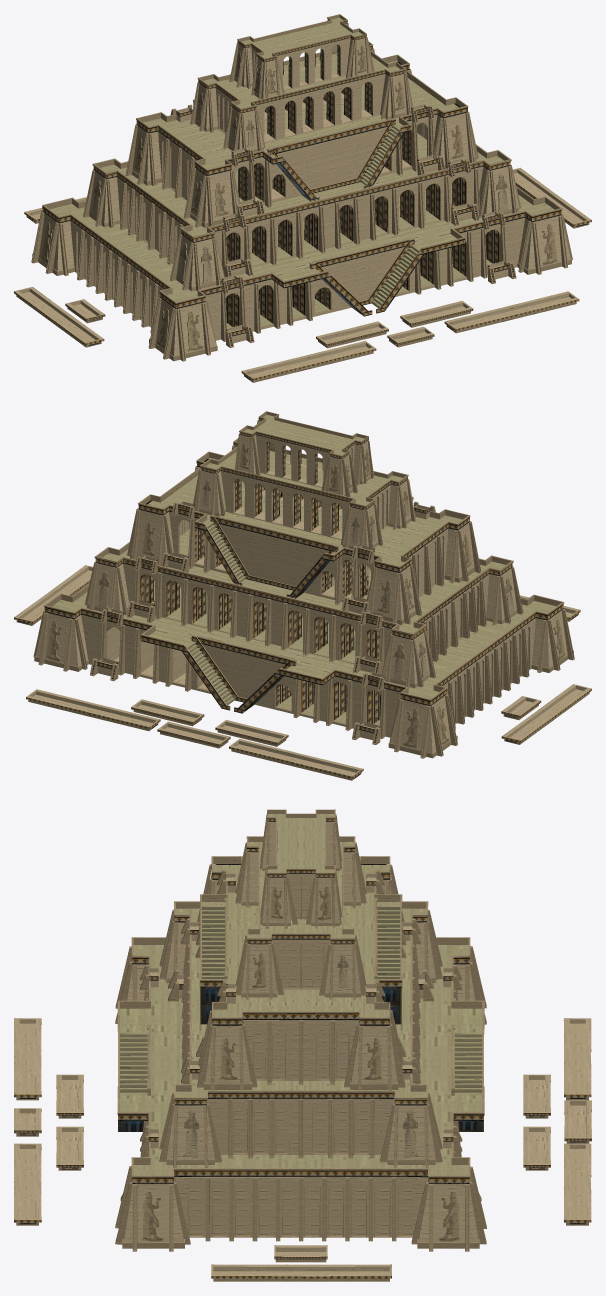
File: sacred-ziggurat-3.glb
3 views of the same model, one above another, from view 1: azimuth 30°, elevation 25°; view 2: azimuth 150°, elevation 25°; view 3: azimuth 270°, elevation 25° (orthographic). The views are drawn at different scales.
Visible parts, largest first — view 1: Sacred-sacred-ziggurat-3-surface-0; view 2: Sacred-sacred-ziggurat-3-surface-0; view 3: Sacred-sacred-ziggurat-3-surface-0.
Part boxes in pixels (bbox=[...]): Sacred-sacred-ziggurat-3-surface-0: bbox=[14, 14, 591, 382]; Sacred-sacred-ziggurat-3-surface-0: bbox=[14, 411, 591, 780]; Sacred-sacred-ziggurat-3-surface-0: bbox=[14, 809, 591, 1281].
Size of the model in its own units: 10.8 by 4.58 by 8.43.
Materials: 1 (1 with a texture image).
